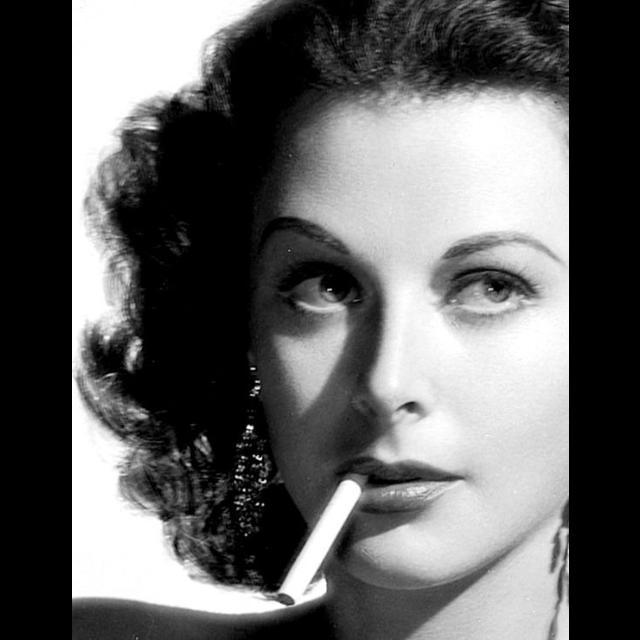rokok: (273, 470, 359, 602)
